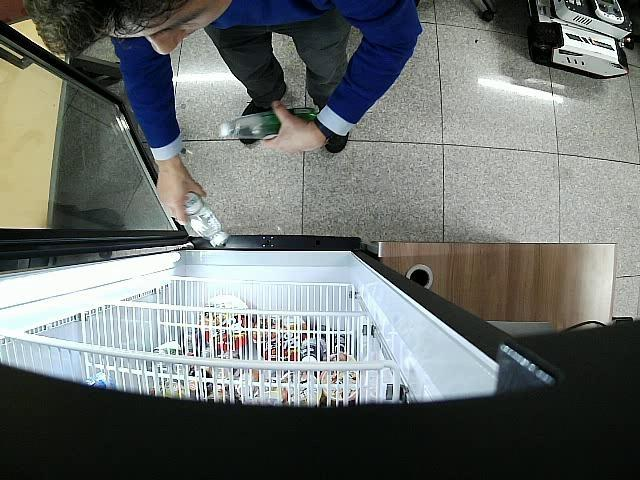18_trevi: (221, 107, 318, 139), (184, 194, 229, 248)
